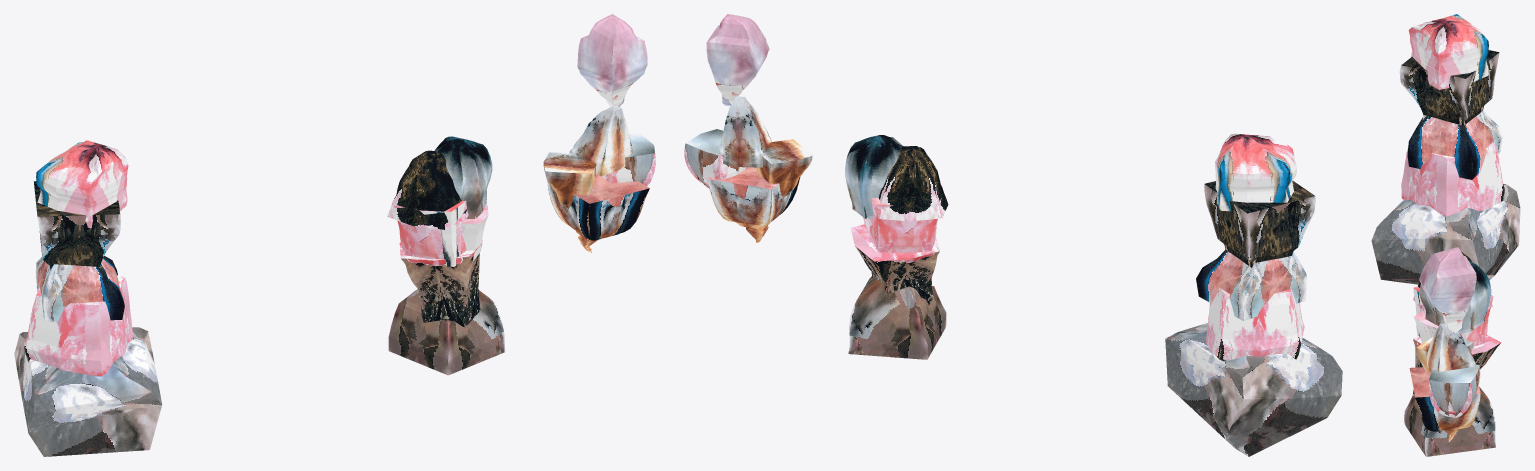
3 views of the same model, side by side, from view 1: azimuth 30°, elevation 25°; view 2: azimuth 150°, elevation 25°; view 3: azimuth 270°, elevation 25° (orthographic). The views are drawn at different scales.
Visible parts, largest first — view 1: SPLICE_2 (×5), SPLICE_1 (×5), master (×2), SPLICE_3 (×2), splice_2, splice_1; view 2: SPLICE_2 (×5), SPLICE_1 (×5), master (×2), SPLICE_3, splice_2, splice_1; view 3: SPLICE_2 (×5), SPLICE_1 (×4), master (×2), splice_2, SPLICE_3 (×2), splice_1.
Part boxes in pixels (x1,y1,x2,y2): SPLICE_2 (×5): (14, 136, 649, 456); SPLICE_1 (×5): (35, 14, 655, 321); master (×2): (34, 181, 505, 375); SPLICE_3 (×2): (399, 204, 488, 327); splice_2: (569, 105, 632, 176); splice_1: (543, 152, 596, 209); SPLICE_2 (×5): (706, 135, 1342, 456); SPLICE_1 (×5): (684, 14, 1306, 320); master (×2): (848, 180, 1315, 359); SPLICE_3: (850, 224, 939, 305); splice_2: (718, 96, 771, 167); splice_1: (755, 139, 812, 197); SPLICE_2 (×5): (1371, 142, 1520, 441); SPLICE_1 (×4): (1407, 14, 1502, 417); master (×2): (1399, 50, 1499, 456); splice_2: (1426, 323, 1476, 372); SPLICE_3 (×2): (1412, 311, 1501, 400); splice_1: (1416, 337, 1473, 373).
Bounding box in the file's own units: 10.12 × 4.71 × 2.29.
Materials: 16 (16 with a texture image).
